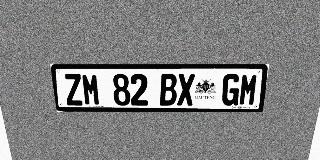2: (130, 74, 148, 106)
8: (112, 74, 131, 105)
B: (160, 74, 177, 106)
G: (221, 74, 241, 106)
M: (238, 74, 259, 106), (81, 74, 101, 105)
X: (177, 74, 195, 106)
Z: (63, 74, 84, 105)
